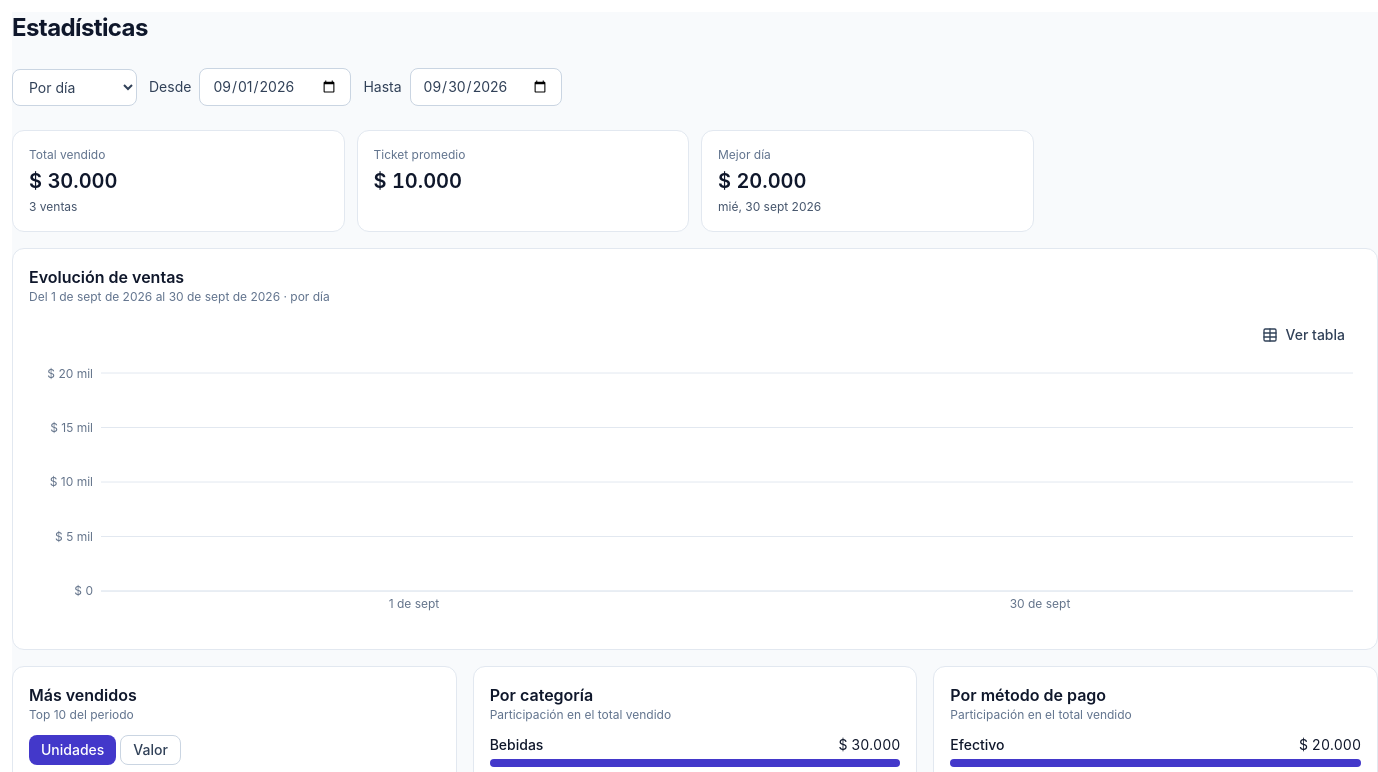
Test: StatisticsPage › asks the trend of whole weeks when grouping by week
The width and height of the screenshot is (1378, 772).
Step 1. Select "Por semana" in the dropdown named "Agrupar por" → {"x": 74, "y": 88}, box [12,69,137,106]
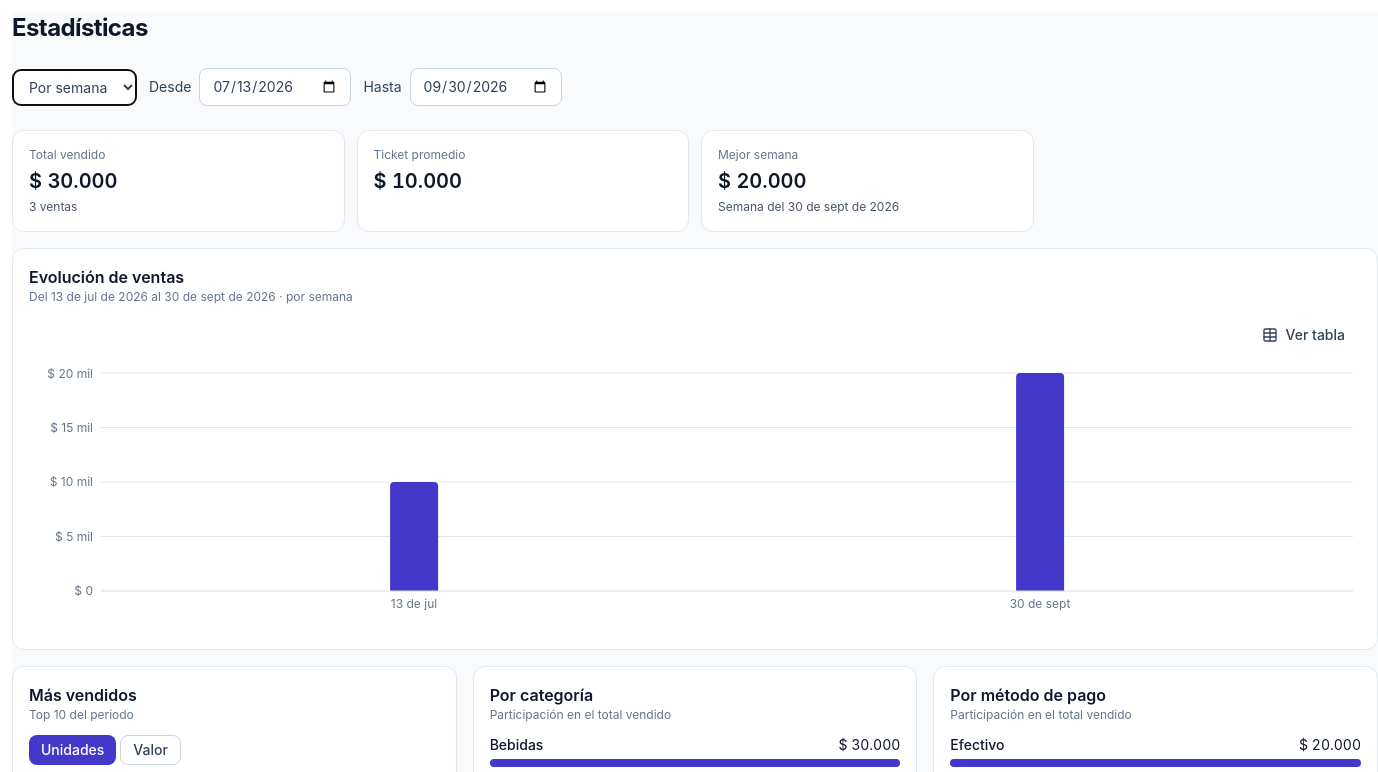
Check: the text "Mejor semana" is shown, box [718,147,798,162]
